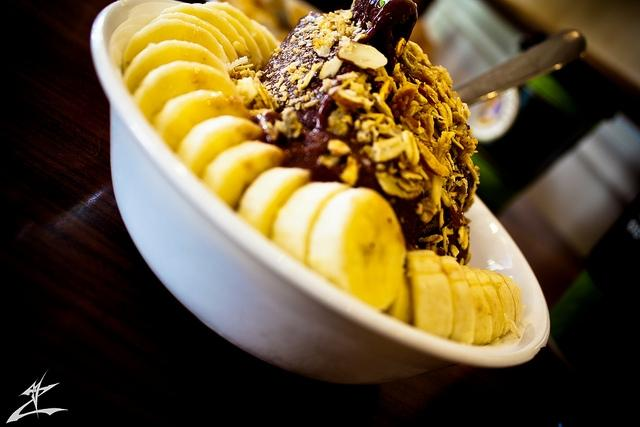almond: (337, 40, 388, 72), (328, 84, 375, 113), (416, 138, 450, 178), (372, 136, 406, 162), (401, 130, 420, 166), (318, 56, 344, 78), (430, 175, 445, 207), (396, 178, 421, 194), (416, 66, 434, 86), (442, 226, 454, 254), (458, 226, 470, 249), (316, 44, 330, 57)
banana: (306, 188, 406, 312), (132, 60, 244, 127), (270, 182, 350, 265), (152, 88, 251, 152), (199, 139, 286, 211), (122, 19, 230, 75), (173, 115, 264, 180), (124, 39, 228, 95), (236, 166, 314, 239), (161, 3, 252, 59), (404, 248, 456, 340), (149, 13, 238, 62), (208, 3, 273, 62), (210, 8, 264, 72), (440, 255, 476, 345), (458, 264, 493, 348), (470, 268, 504, 344), (480, 270, 516, 336), (498, 274, 526, 326), (386, 274, 412, 325), (250, 19, 281, 55)
